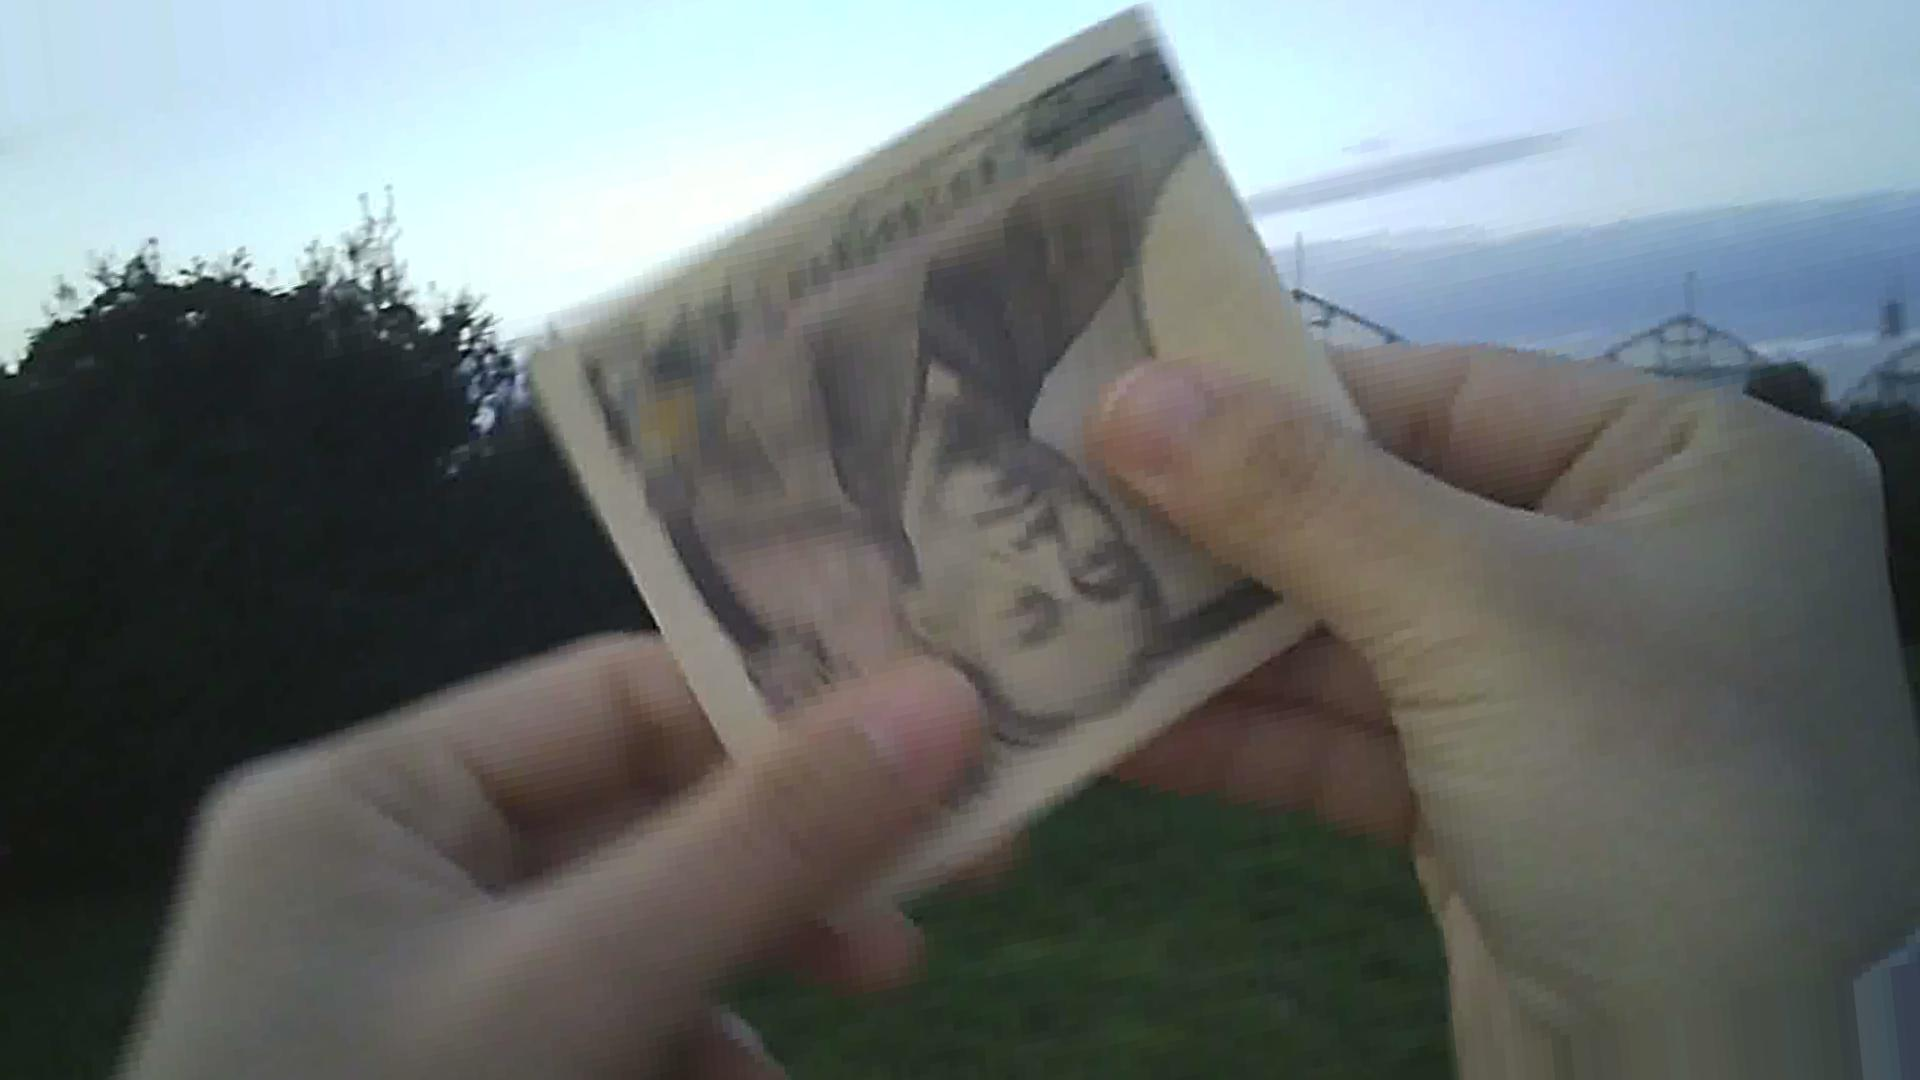10,000 Yen: (516, 29, 1344, 880)
